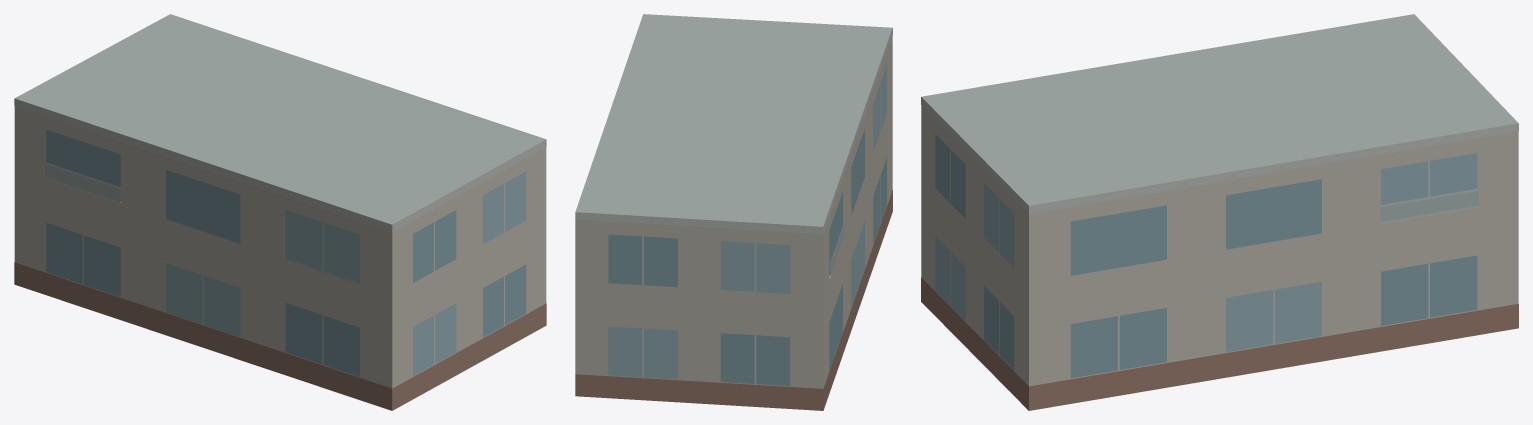
Rendered from survey-upis-32586277.glb.
3 renders of one model, left to right at view 1: azimuth 30°, elevation 25°; view 2: azimuth 150°, elevation 25°; view 3: azimuth 270°, elevation 25°, orthographic. The views are drawn at different scales.
Parts seen in each view (by area): view 1: survey-upis-32586277.tmp; view 2: survey-upis-32586277.tmp; view 3: survey-upis-32586277.tmp.
Part boxes in pixels (bbox=[...]): survey-upis-32586277.tmp: bbox=[14, 14, 546, 410]; survey-upis-32586277.tmp: bbox=[575, 14, 892, 410]; survey-upis-32586277.tmp: bbox=[921, 14, 1518, 410].
Size of the model in its own units: 12.26 by 6.1 by 16.13.
